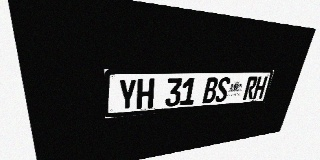1: (180, 78, 197, 106)
3: (165, 78, 183, 107)
B: (202, 77, 219, 104)
H: (136, 78, 155, 109), (252, 76, 268, 99)
R: (243, 76, 258, 100)
S: (214, 77, 231, 102)
Y: (118, 79, 137, 111)
